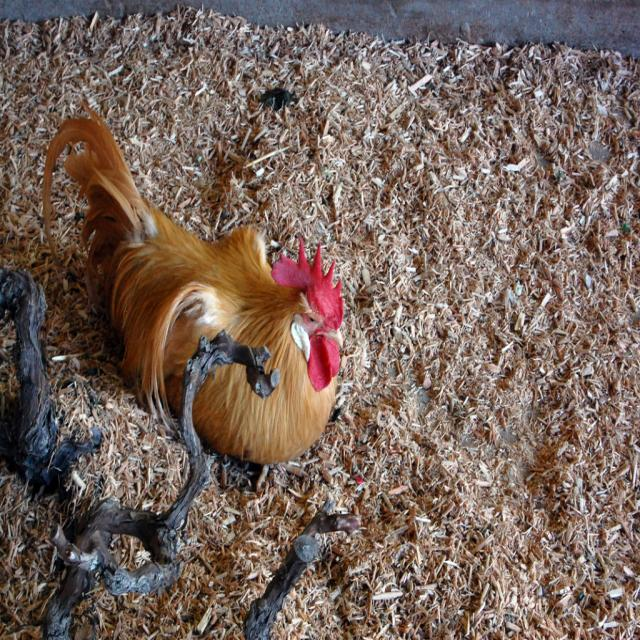Chicken: (35, 98, 345, 447)
